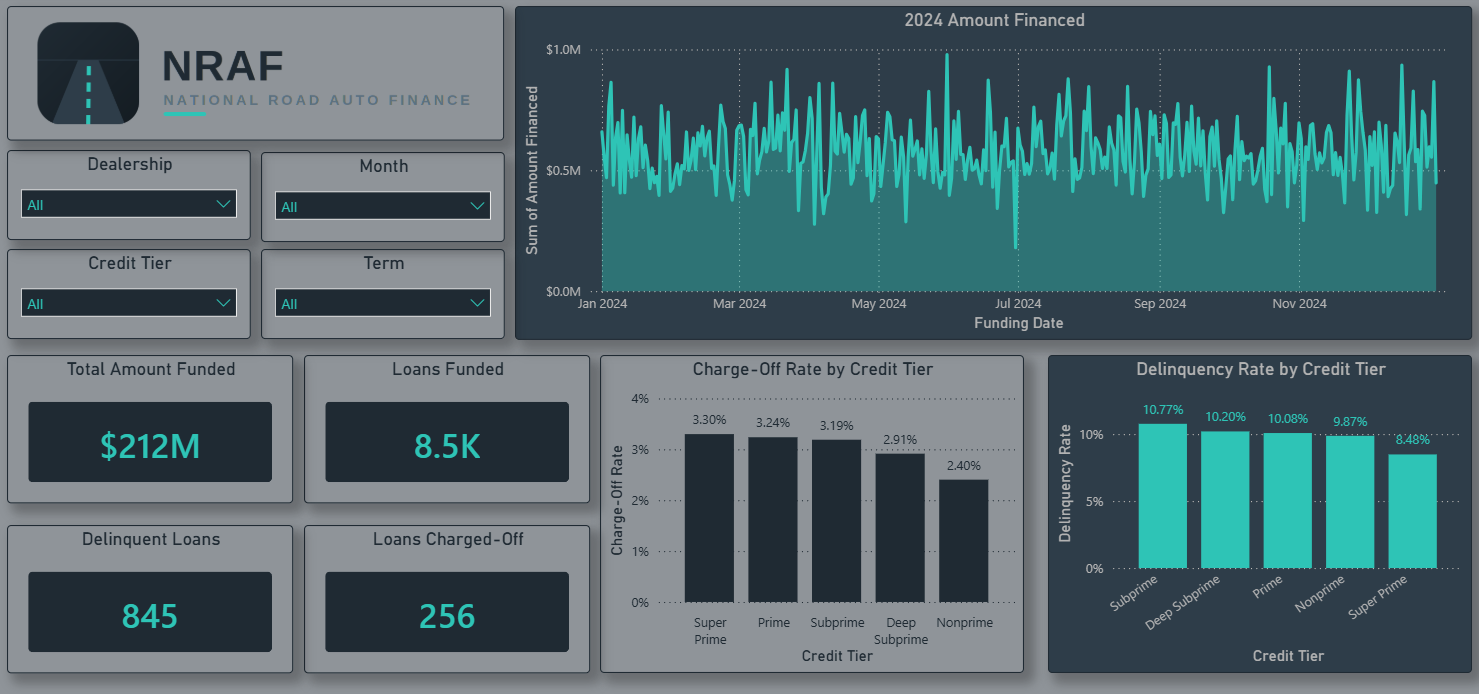

This screenshot's page, from the dashboard's own definition file:
{"tool":"powerbi","page":{"name":"Page 1","canvas":[1400,680],"ordinal":0},"visuals":[{"type":"areaChart","title":"2024 Amount Financed","fields":{"Category":["Working Loan Data.Funding Date"],"Y":["Sum(Working Loan Data.Amount Financed)"]},"box":[488,10,903,315],"z":0},{"type":"slicer","title":"Dealership","fields":{"Values":["Working Loan Data.Dealership"]},"box":[8.9,146.6,230,85],"z":1000},{"type":"slicer","title":"Month","fields":{"Values":["Working Loan Data.Funding Date.Variation.Date Hierarchy.Month"]},"box":[247.8,147.7,230,85],"z":2000},{"type":"slicer","title":"Credit Tier","fields":{"Values":["Working Loan Data.Credit Tier"]},"box":[8.9,240,230,85],"z":3000},{"type":"slicer","title":"Term","fields":{"Values":["Working Loan Data.Loan Term (Months)"]},"box":[247.8,239.9,230,85],"z":4000},{"type":"cardVisual","title":"Loans Funded","fields":{"Data":["CountNonNull(Working Loan Data.Loan ID)"]},"box":[288.7,339.6,270,140],"z":5000},{"type":"cardVisual","title":"Total Amount Funded","fields":{"Data":["Sum(Working Loan Data.Amount Financed)"]},"box":[8.5,339.6,270,140],"z":6000},{"type":"image","box":[8.9,10,468.9,126.7],"z":7000},{"type":"cardVisual","title":"Loans Charged-Off","fields":{"Data":["Working Loan Data.Loans Charged-Off"]},"box":[288.7,500,270,140],"z":8000},{"type":"columnChart","fields":{"Category":["Working Loan Data.Credit Tier"],"Y":["Working Loan Data.Delinquency Rate"]},"box":[990.6,339.6,400,300],"z":9000},{"type":"columnChart","fields":{"Category":["Working Loan Data.Credit Tier"],"Y":["Working Loan Data.Charge-Off Rate"]},"box":[567.9,339.6,400,300],"z":10000},{"type":"cardVisual","title":"Delinquent Loans","fields":{"Data":["Working Loan Data.Loans Delinquent"]},"box":[8.5,500,270,140],"z":11000}]}

Visuals, with their boxes on the page's 1400x680 design canvas (x1, y1, x2, y2). These are canvas units, not pixel positions in the 1479x694 screenshot, which may show the page scaled, cropped or inside an application window:
"2024 Amount Financed" areaChart: (x1=488, y1=10, x2=1391, y2=325)
"Dealership" slicer: (x1=9, y1=147, x2=239, y2=232)
"Month" slicer: (x1=248, y1=148, x2=478, y2=233)
"Credit Tier" slicer: (x1=9, y1=240, x2=239, y2=325)
"Term" slicer: (x1=248, y1=240, x2=478, y2=325)
"Loans Funded" cardVisual: (x1=289, y1=340, x2=559, y2=480)
"Total Amount Funded" cardVisual: (x1=8, y1=340, x2=278, y2=480)
image: (x1=9, y1=10, x2=478, y2=137)
"Loans Charged-Off" cardVisual: (x1=289, y1=500, x2=559, y2=640)
columnChart - Working Loan Data.Credit Tier x Working Loan Data.Delinquency Rate: (x1=991, y1=340, x2=1391, y2=640)
columnChart - Working Loan Data.Credit Tier x Working Loan Data.Charge-Off Rate: (x1=568, y1=340, x2=968, y2=640)
"Delinquent Loans" cardVisual: (x1=8, y1=500, x2=278, y2=640)
